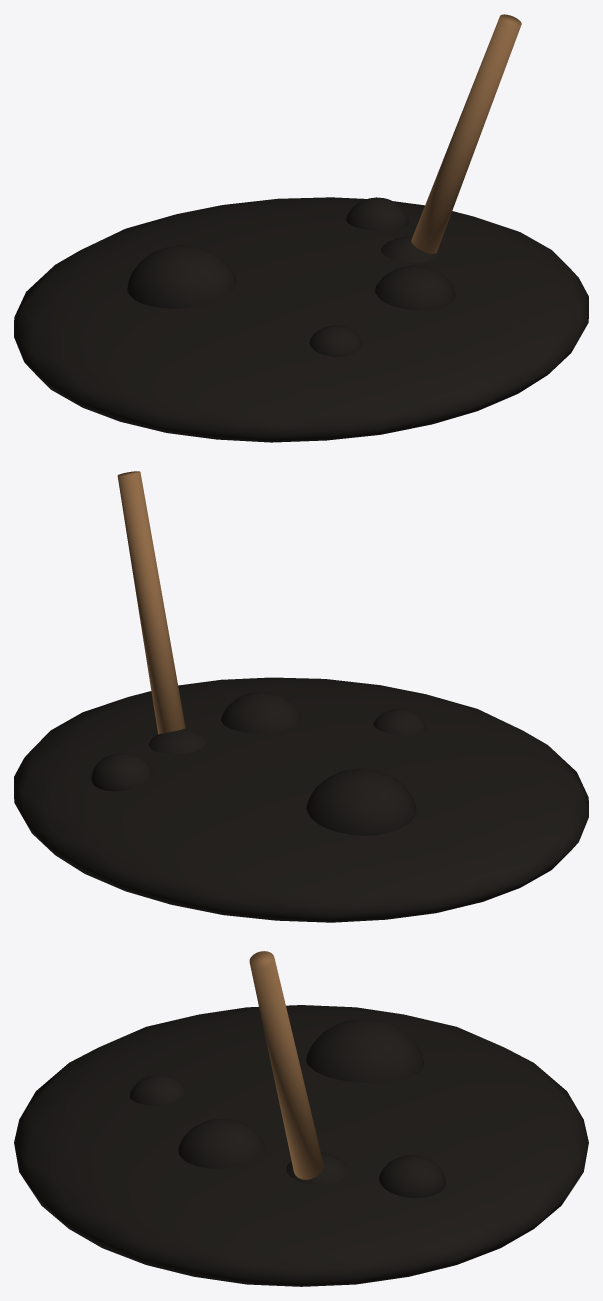
File: TarPit.fbx
The picture shows the model from 3 angles, top to bottom: view 1: azimuth 30°, elevation 25°; view 2: azimuth 150°, elevation 25°; view 3: azimuth 270°, elevation 25°; orthographic projection. The views are drawn at different scales.
Visible parts, largest first — view 1: TarPit; view 2: TarPit; view 3: TarPit.
Part boxes in pixels (x1,y1,x2,y2): TarPit: (14,14,588,442); TarPit: (14,471,588,922); TarPit: (14,951,588,1286).
Size of the model in its own units: 0.8043 by 0.4646 by 0.7277.
